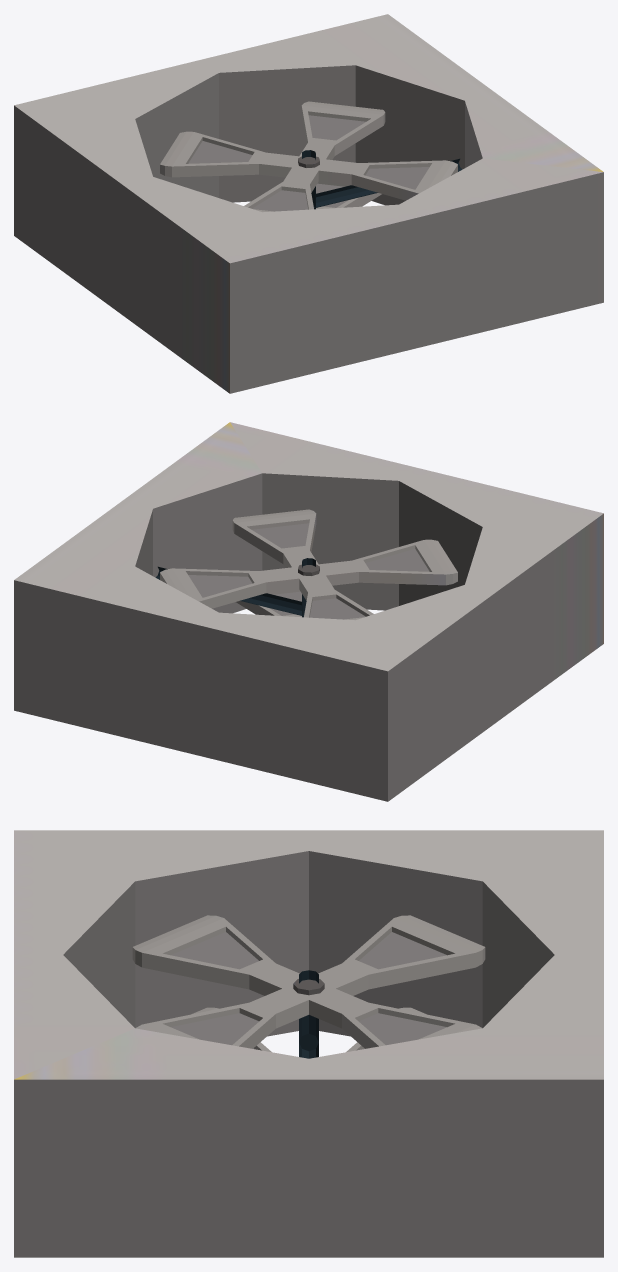
Rendered from vints.fbx.
The picture shows the model from 3 angles, top to bottom: view 1: azimuth 30°, elevation 25°; view 2: azimuth 150°, elevation 25°; view 3: azimuth 270°, elevation 25°; orthographic projection. The views are drawn at different scales.
Visible parts, largest first — view 1: VintAround, Vints; view 2: VintAround, Vints; view 3: VintAround, Vints.
Boxes of the visible parts, x1=… form: VintAround: x1=14, y1=14, x2=603, y2=393; Vints: x1=160, y1=101, x2=457, y2=212; VintAround: x1=14, y1=422, x2=603, y2=801; Vints: x1=160, y1=509, x2=457, y2=620; VintAround: x1=14, y1=830, x2=603, y2=1257; Vints: x1=132, y1=915, x2=485, y2=1052.
Bounding box in the file's own units: 150 × 50 × 150.
